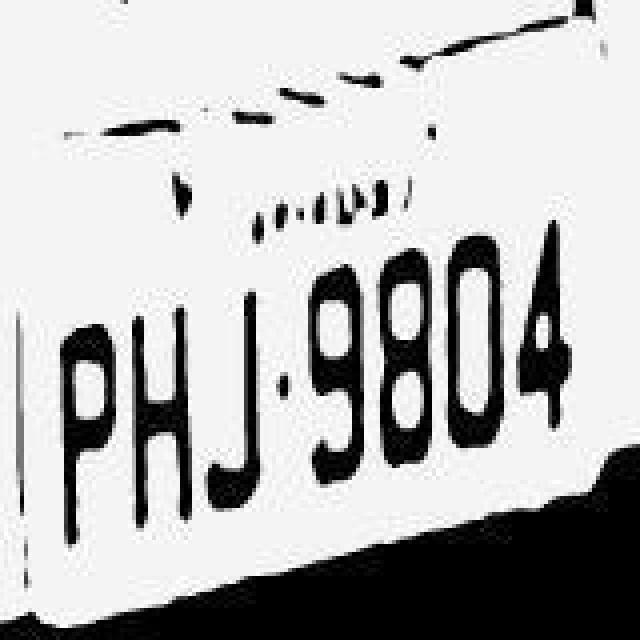4: (508, 204, 580, 468)
8: (368, 226, 440, 494)
9: (294, 230, 370, 498)
H: (122, 276, 198, 532)
J: (196, 252, 268, 516)
O: (436, 224, 508, 488)
P: (44, 282, 124, 550)
